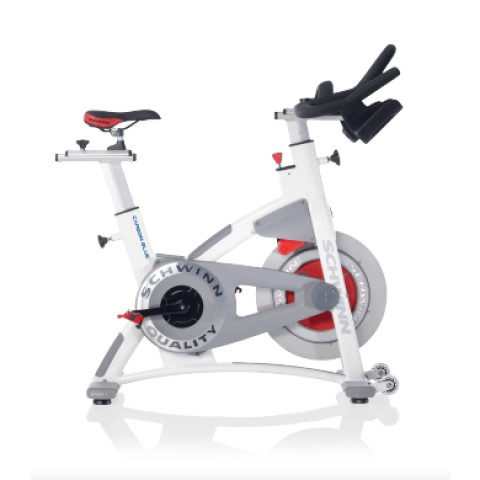gym_bike: (39, 32, 418, 427)
